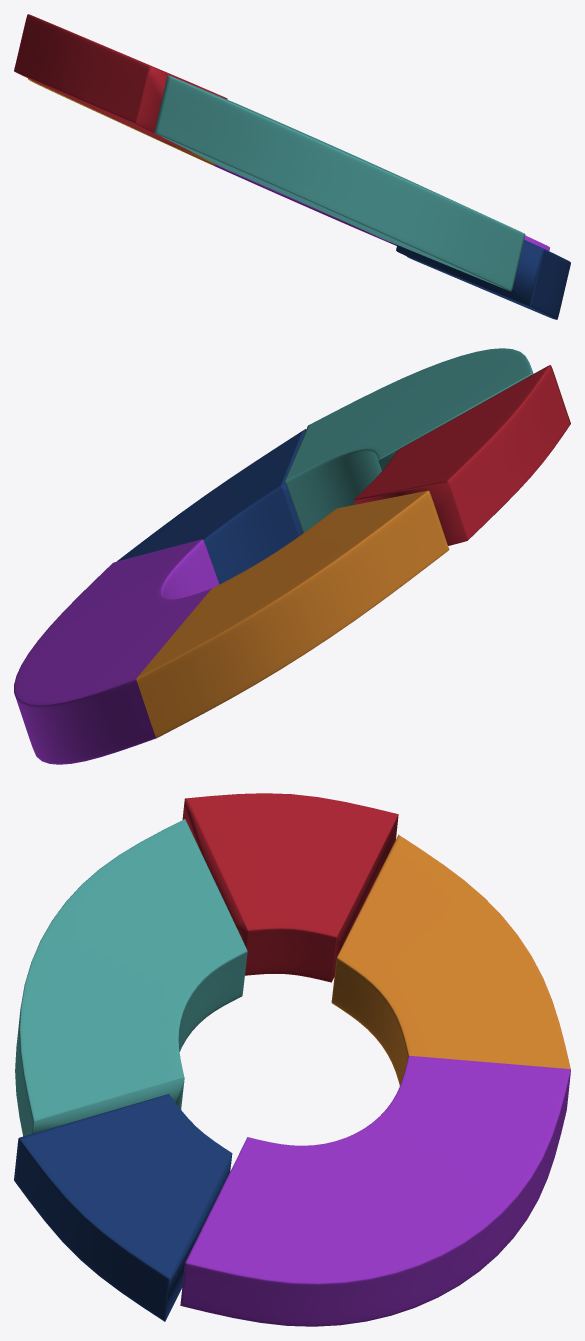
The model's file is Pie Chart .glb.
The picture shows the model from 3 angles, top to bottom: view 1: azimuth 30°, elevation 25°; view 2: azimuth 150°, elevation 25°; view 3: azimuth 270°, elevation 25°; orthographic projection. The views are drawn at different scales.
Visible parts, largest first — view 1: Sky Blue, Red, Dark Blue, Cylinder, Yellow; view 2: Yellow, Cylinder, Red, Sky Blue, Dark Blue; view 3: Cylinder, Sky Blue, Yellow, Dark Blue, Red.
Boxes of the visible parts, x1=… form: Sky Blue: x1=154, y1=75, x2=525, y2=291; Red: x1=14, y1=14, x2=227, y2=158; Dark Blue: x1=396, y1=239, x2=570, y2=319; Cylinder: x1=213, y1=164, x2=549, y2=250; Yellow: x1=28, y1=78, x2=215, y2=165; Yellow: x1=136, y1=490, x2=449, y2=737; Cylinder: x1=14, y1=539, x2=219, y2=764; Red: x1=354, y1=365, x2=570, y2=545; Sky Blue: x1=285, y1=348, x2=533, y2=532; Dark Blue: x1=117, y1=429, x2=305, y2=584; Cylinder: x1=180, y1=1056, x2=570, y2=1326; Sky Blue: x1=15, y1=819, x2=247, y2=1136; Yellow: x1=331, y1=834, x2=570, y2=1085; Dark Blue: x1=14, y1=1094, x2=232, y2=1321; Red: x1=182, y1=793, x2=398, y2=982.
Size of the model in its own units: 2.65 by 2 by 2.93.
